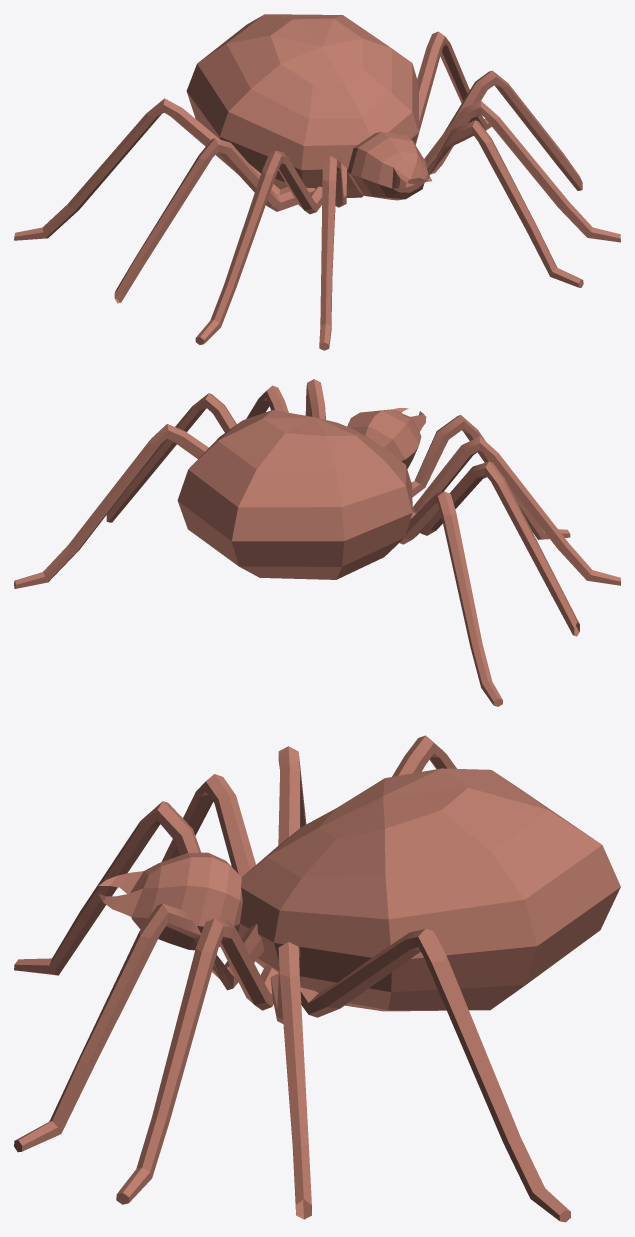
Rendered from SpiderMite.fbx.
3 renders of one model, top to bottom at view 1: azimuth 30°, elevation 25°; view 2: azimuth 150°, elevation 25°; view 3: azimuth 270°, elevation 25°, orthographic. The views are drawn at different scales.
Visible parts, largest first — view 1: group2_pCylinder34; view 2: group2_pCylinder34; view 3: group2_pCylinder34.
Boxes of the visible parts, x1,y1,x2,y2 form: group2_pCylinder34: [14, 14, 620, 350]; group2_pCylinder34: [14, 379, 620, 706]; group2_pCylinder34: [14, 735, 620, 1222].
Size of the model in its own units: 10.06 by 3.72 by 7.56.
